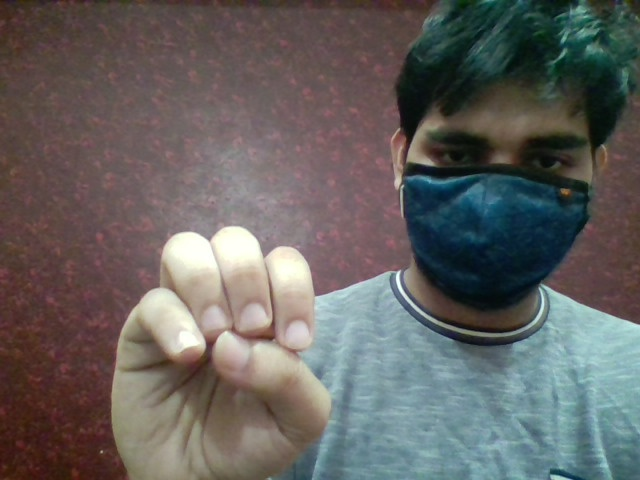e: (98, 216, 343, 480)
